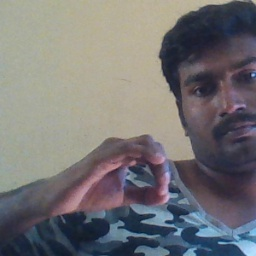O: (49, 130, 179, 217)
